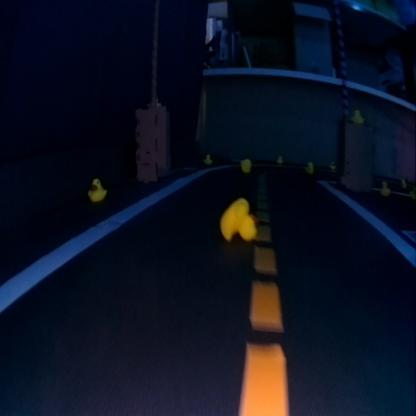Duckie: (219, 199, 256, 239), (88, 178, 105, 200), (240, 157, 252, 172), (352, 109, 362, 122), (380, 180, 389, 194), (204, 152, 210, 164), (306, 162, 312, 172), (277, 155, 283, 163), (330, 161, 335, 169), (401, 178, 406, 184)
